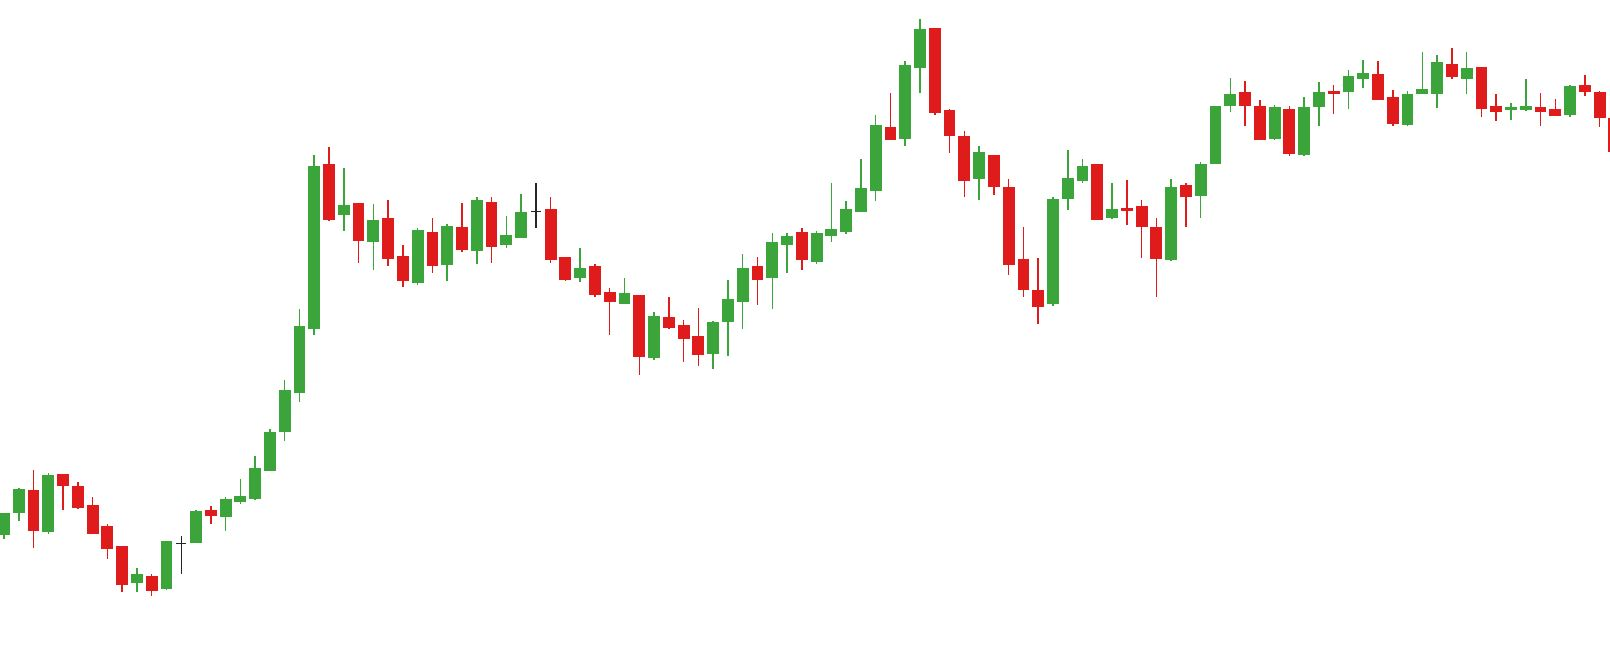sell: (1338, 52, 1457, 104)
